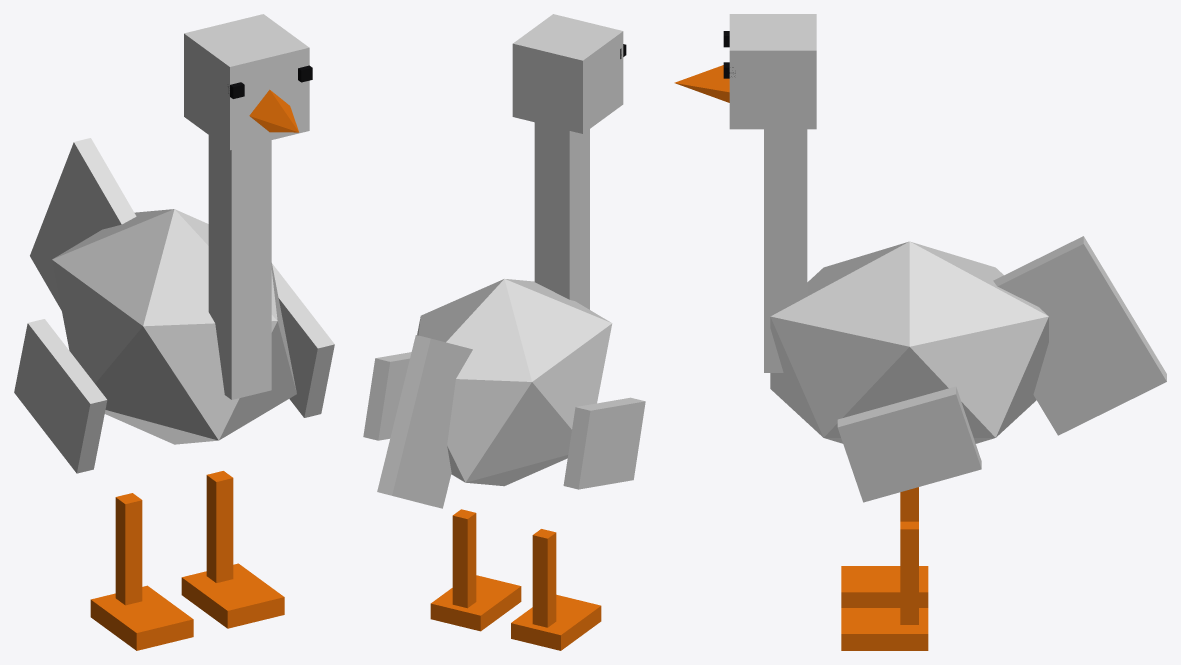
The model's file is goose.obj.
3 views of the same model, side by side, from view 1: azimuth 30°, elevation 25°; view 2: azimuth 150°, elevation 25°; view 3: azimuth 270°, elevation 25° (orthographic). The views are drawn at different scales.
Parts seen in each view (by area): view 1: goose; view 2: goose; view 3: goose.
Boxes of the visible parts, <box> form: goose: <box>14,14,334,650</box>; goose: <box>363,14,645,650</box>; goose: <box>674,14,1166,650</box>.
Size of the model in its own units: 0.516 by 1.25 by 0.9539.
